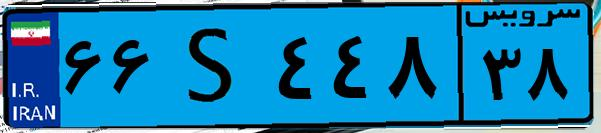3: (475, 38, 525, 113)
4: (270, 28, 330, 110), (330, 28, 385, 110)
6: (57, 26, 110, 100), (110, 28, 158, 98)
8: (385, 28, 445, 110), (525, 38, 570, 115)
S: (158, 12, 270, 120)
